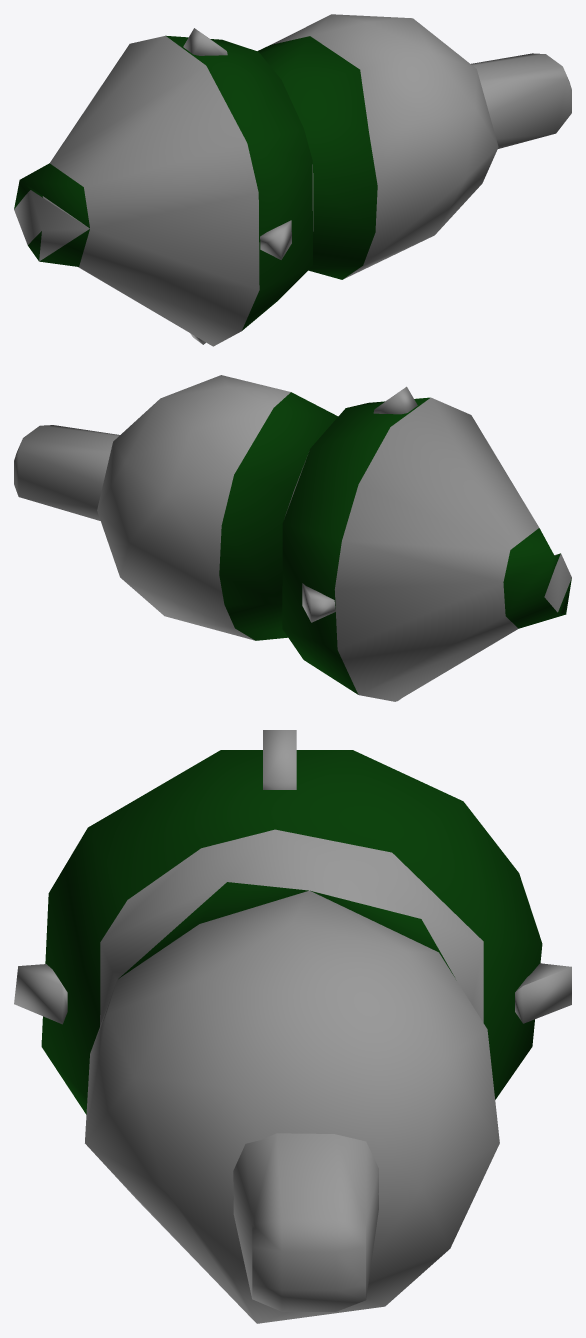
File: Vostok_collision.fbx
3 renders of one model, top to bottom at view 1: azimuth 30°, elevation 25°; view 2: azimuth 150°, elevation 25°; view 3: azimuth 270°, elevation 25°, orthographic. The views are drawn at different scales.
Visible parts, largest first — view 1: Empty_Mesh; view 2: Empty_Mesh; view 3: Empty_Mesh.
Boxes of the visible parts, <box> form: Empty_Mesh: <box>14,14,571,346</box>; Empty_Mesh: <box>14,375,571,701</box>; Empty_Mesh: <box>14,730,571,1323</box>.
Size of the model in its own units: 12 by 6.6 by 6.64.
